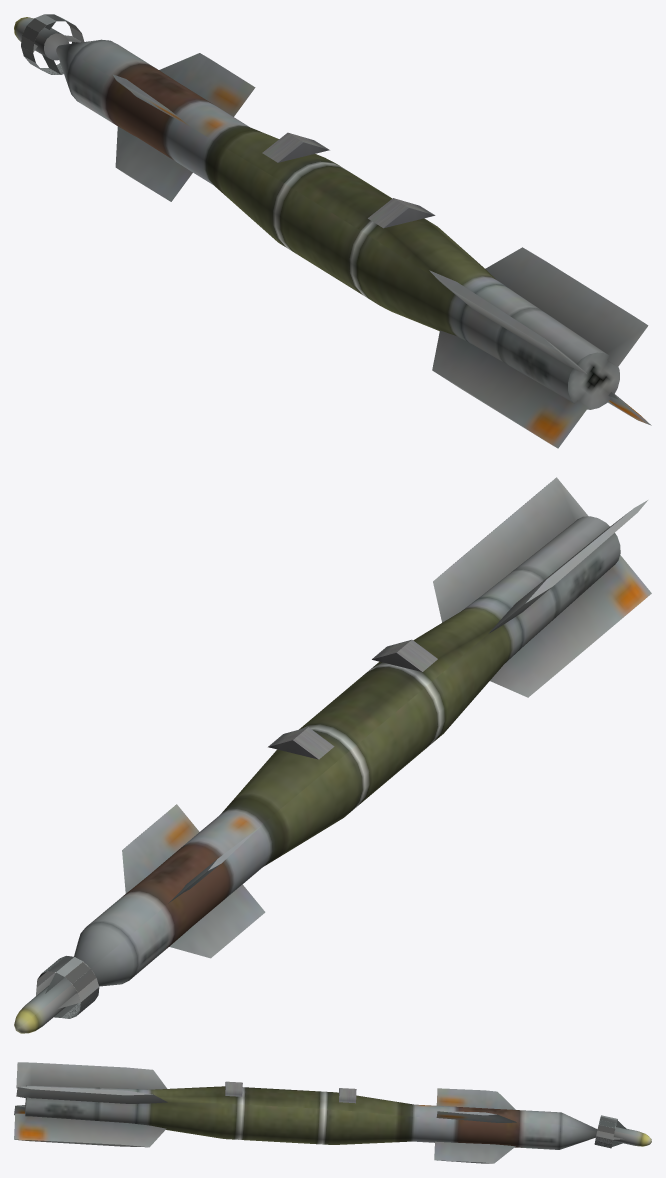
Rendered from w_gbu12.glb.
3 views of the same model, one above another, from view 1: azimuth 30°, elevation 25°; view 2: azimuth 150°, elevation 25°; view 3: azimuth 270°, elevation 25° (orthographic). The views are drawn at different scales.
Parts seen in each view (by area): view 1: body|extra1.0; view 2: body|extra1.0; view 3: body|extra1.0.
Part boxes in pixels (box(x1,y1,x2,y2)): body|extra1.0: box(14, 14, 651, 448); body|extra1.0: box(14, 477, 651, 1033); body|extra1.0: box(14, 1062, 651, 1163).
Size of the model in its own units: 0.321 by 0.4467 by 3.3.
1 material, 1 textured.
